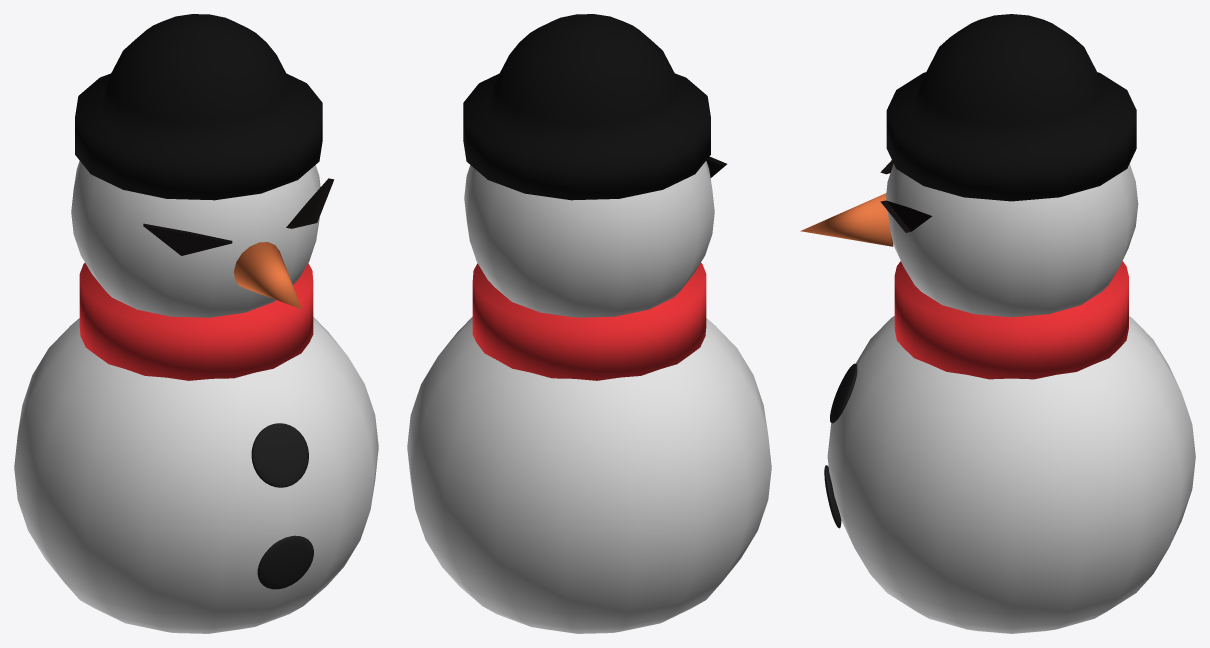
Rendered from snowman.fbx.
3 views of the same model, side by side, from view 1: azimuth 30°, elevation 25°; view 2: azimuth 150°, elevation 25°; view 3: azimuth 270°, elevation 25° (orthographic).
Visible parts, largest first — view 1: Cube.001; view 2: Cube.001; view 3: Cube.001.
Boxes of the visible parts, box(x1,y1,x2,y2) form: Cube.001: box(14, 14, 378, 633); Cube.001: box(407, 14, 771, 633); Cube.001: box(800, 14, 1195, 633).
Size of the model in its own units: 314 by 556 by 338.
